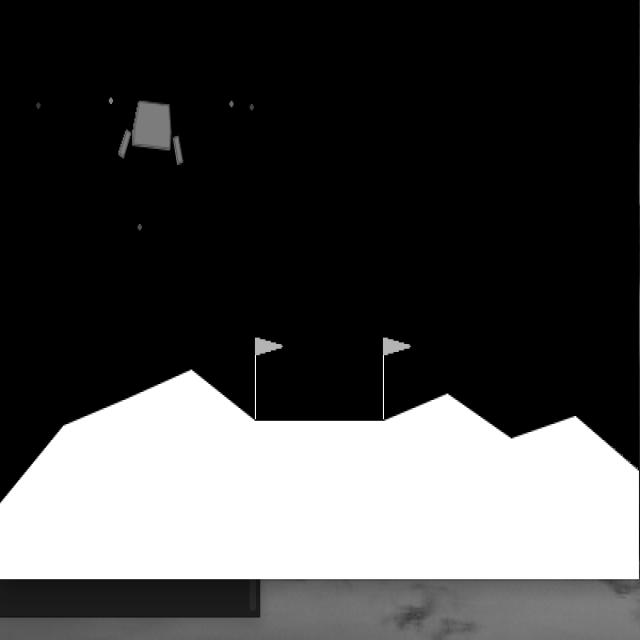lander: (118, 97, 192, 166)
landing_point: (255, 337, 385, 420)
